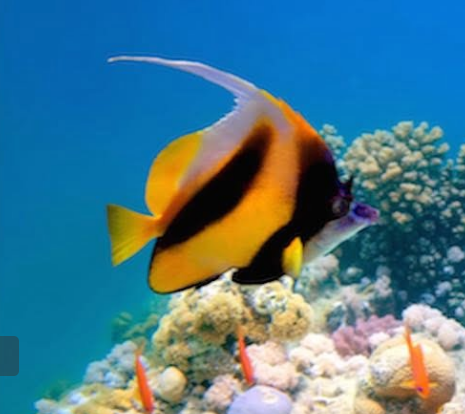fishRound: (105, 59, 378, 296)
fishSmall: (398, 323, 440, 400)
